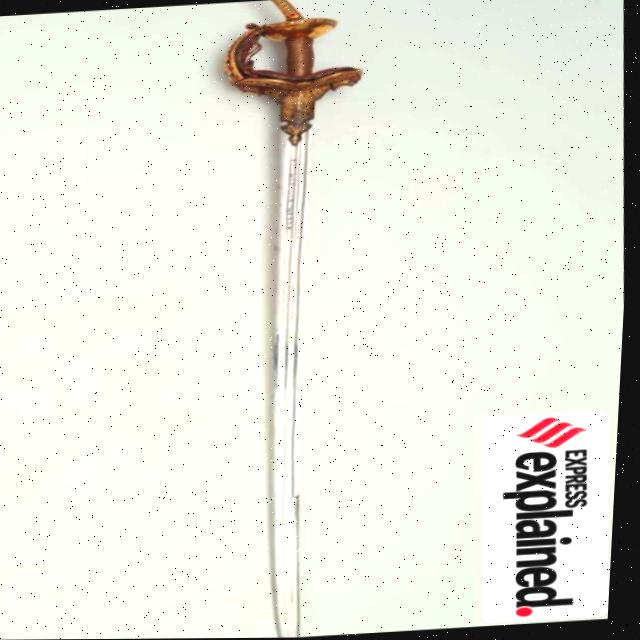knife: (179, 0, 392, 639)
